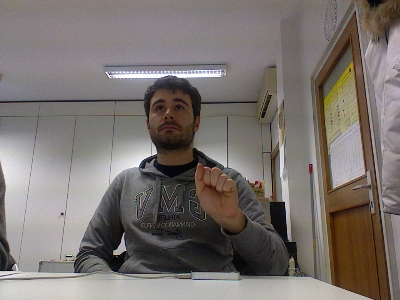石头: (193, 161, 239, 222)
